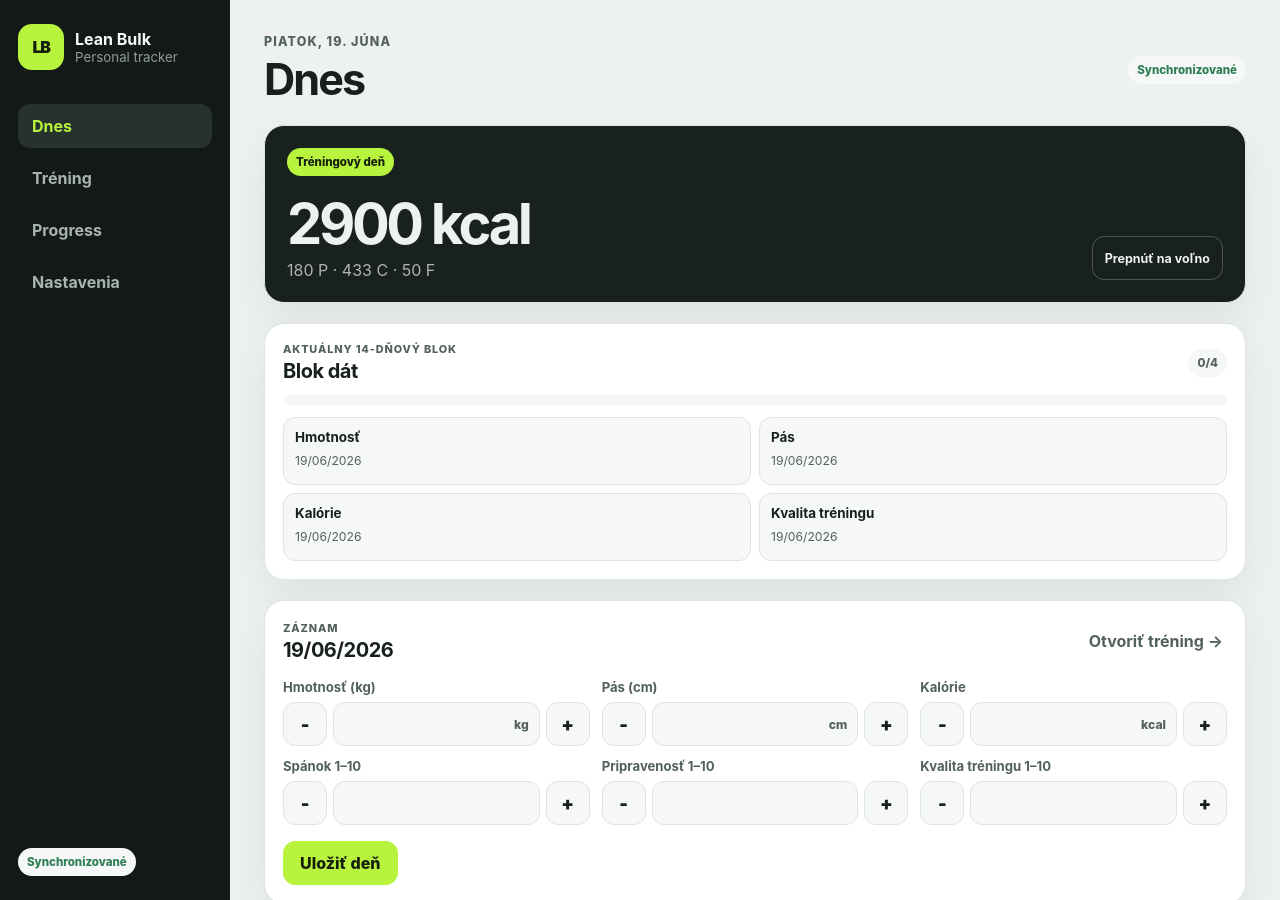
Test: App demo mode › repeats the previous top set and shows live training feedback
Click the button "Tréning" at {"x": 115, "y": 178}, box x1=18 y1=156 x2=212 y2=200
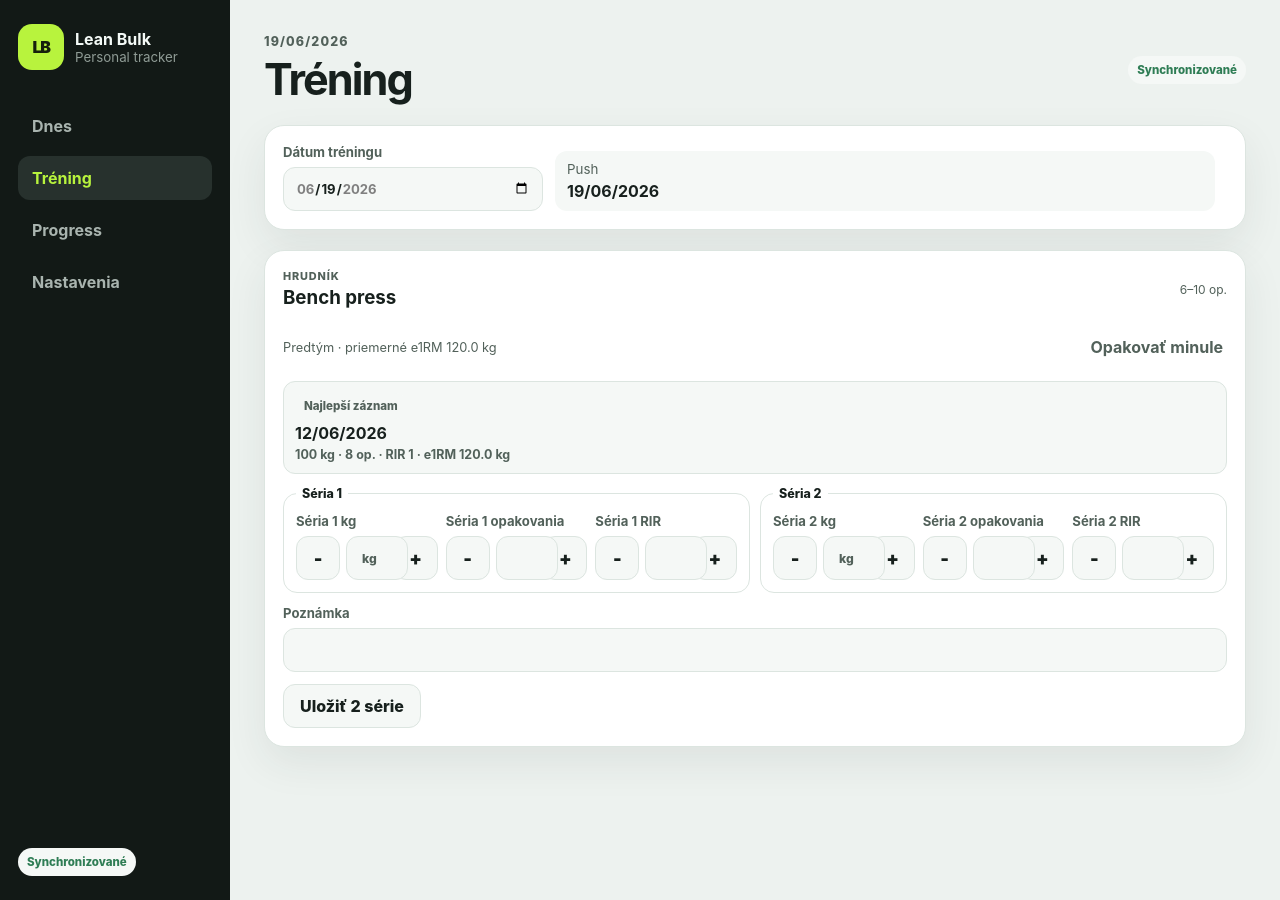
Click the button "Opakovať minule" at {"x": 1157, "y": 347}, box x1=1086 y1=325 x2=1227 y2=369
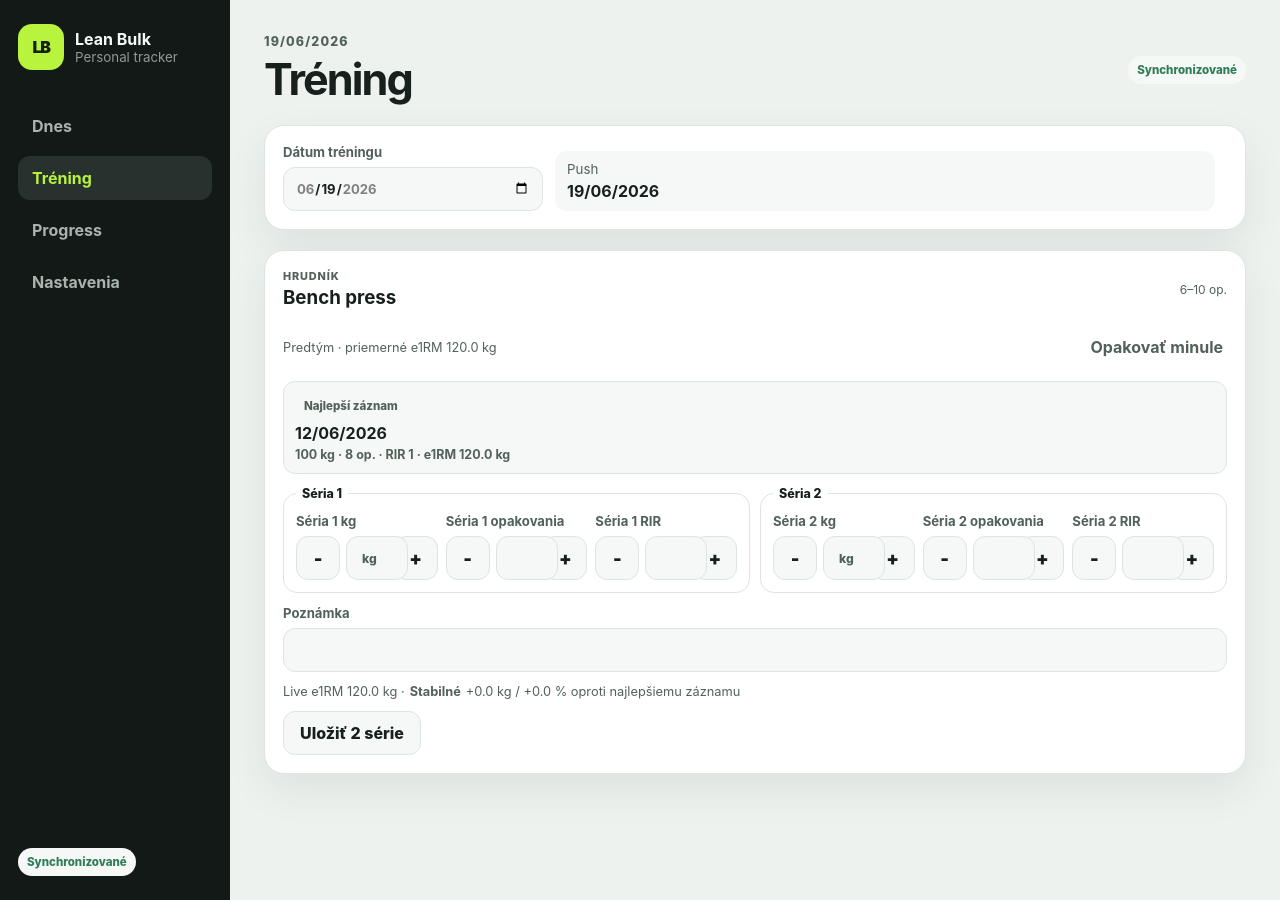
Expected: the number field labelled "Séria 1 kg" holds "100", x1=346 y1=536 x2=408 y2=580
Expected: the text "Live e1RM 120.0 kg" is shown, x1=283 y1=684 x2=740 y2=699
Expected: the text "Stabilné" is shown, x1=410 y1=684 x2=461 y2=699
